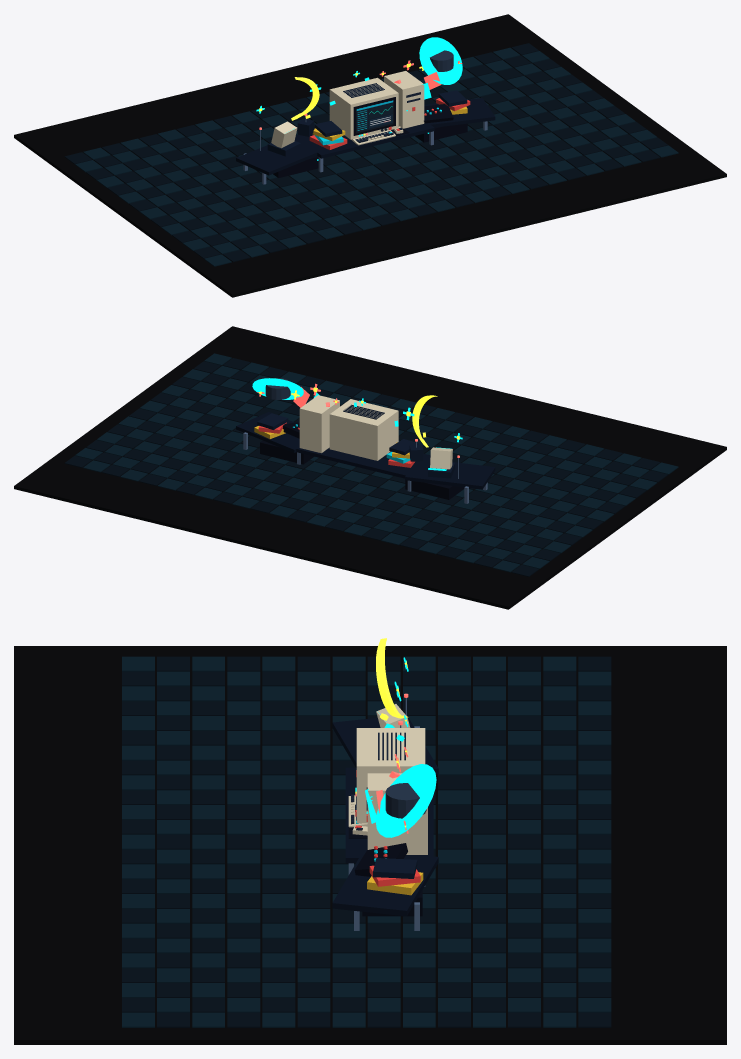
The model's file is learnsphere-hero.glb.
3 views of the same model, one above another, from view 1: azimuth 30°, elevation 25°; view 2: azimuth 150°, elevation 25°; view 3: azimuth 270°, elevation 25° (orthographic). The views are drawn at different scales.
Parts seen in each view (by area): view 1: BaseFloorPlate, MonCase, CPUTower, DeskLeftWing, PlanetRing, MonScreenPlane, DeskCenter, DeskRightWing, LTermHead, RackUnderR; view 2: BaseFloorPlate, MonCase, CPUTower, DeskLeftWing, DeskCenter, DeskRightWing, RackUnderL, RackUnderR, PlanetRing, LTermHead; view 3: BaseFloorPlate, MonCase, DeskRightWing, PlanetRing, CPUTower, DeskCenter, DeskLeftWing, PlanetBody, RBookCover_2, StylizedCrescentMoon, SynthDeck.
Part boxes in pixels (left/top/right/bottom): BaseFloorPlate: left=14, top=14, right=726, bottom=297; MonCase: left=329, top=77, right=398, bottom=139; CPUTower: left=384, top=71, right=424, bottom=128; DeskLeftWing: left=236, top=135, right=322, bottom=175; PlanetRing: left=419, top=37, right=462, bottom=84; MonScreenPlane: left=355, top=99, right=393, bottom=133; DeskCenter: left=297, top=125, right=434, bottom=158; DeskRightWing: left=417, top=98, right=495, bottom=127; LTermHead: left=271, top=121, right=297, bottom=148; RackUnderR: left=415, top=123, right=467, bottom=142; BaseFloorPlate: left=14, top=326, right=726, bottom=609; MonCase: left=329, top=399, right=398, bottom=460; CPUTower: left=299, top=395, right=339, bottom=453; DeskLeftWing: left=405, top=460, right=495, bottom=489; DeskCenter: left=296, top=447, right=430, bottom=478; DeskRightWing: left=236, top=412, right=299, bottom=452; RackUnderL: left=405, top=480, right=464, bottom=499; RackUnderR: left=260, top=440, right=313, bottom=464; PlanetRing: left=252, top=378, right=303, bottom=399; LTermHead: left=430, top=447, right=452, bottom=469; BaseFloorPlate: left=14, top=646, right=726, bottom=1044; MonCase: left=356, top=728, right=425, bottom=823; DeskRightWing: left=332, top=849, right=438, bottom=916; PlanetRing: left=375, top=764, right=436, bottom=837; CPUTower: left=367, top=773, right=427, bottom=854; DeskCenter: left=345, top=767, right=433, bottom=863; DeskLeftWing: left=332, top=715, right=438, bottom=774; PlanetBody: left=385, top=783, right=426, bottom=818; RBookCover_2: left=373, top=858, right=417, bottom=878; StylizedCrescentMoon: left=376, top=638, right=408, bottom=718; SynthDeck: left=354, top=843, right=407, bottom=876.
Bounding box in the file's own units: 34 × 6.17 × 26.
22 materials, 1 textured.
